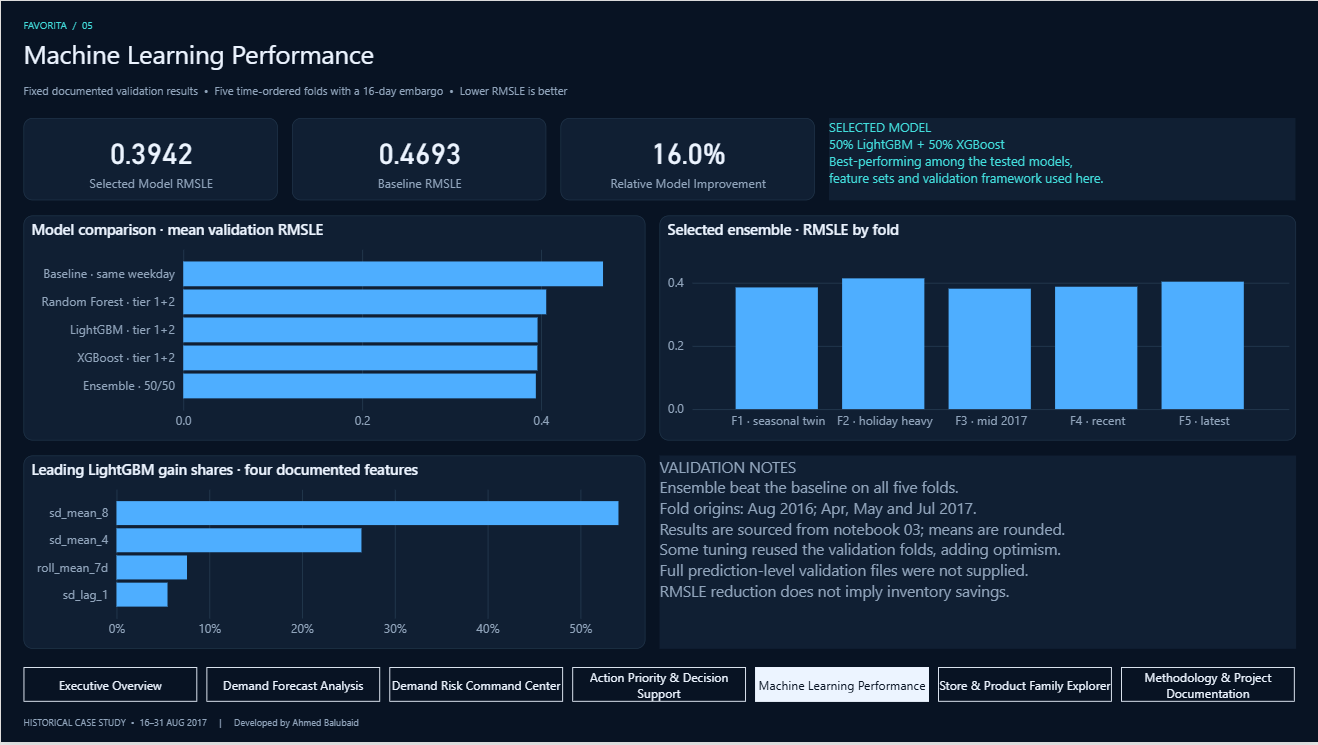

The page's visual inventory and layout, read from the dashboard file:
{"tool":"powerbi","page":{"name":"Machine Learning Performance","canvas":[1440,810],"ordinal":4},"visuals":[{"type":"textbox","box":[24,14,300,24],"z":68},{"type":"textbox","box":[24,40,1370,44],"z":69},{"type":"textbox","box":[24,87,1370,30],"z":70},{"type":"textbox","box":[24,777,1040,22],"z":71},{"type":"pageNavigator","box":[24,729,1392,38],"z":72},{"type":"card","fields":{"Values":["FactForecast.Selected Model RMSLE"]},"box":[24,128,278,90],"z":73},{"type":"card","fields":{"Values":["FactForecast.Baseline RMSLE"]},"box":[318,128,278,90],"z":74},{"type":"card","fields":{"Values":["FactForecast.Relative Model Improvement"]},"box":[612,128,278,90],"z":75},{"type":"textbox","box":[906,128,510,90],"z":76},{"type":"clusteredBarChart","title":"Model comparison · mean validation RMSLE","fields":{"Category":["ModelPerformance.model"],"Y":["FactForecast.Model RMSLE"]},"box":[24,235,680,246],"z":77},{"type":"clusteredColumnChart","title":"Selected ensemble · RMSLE by fold","fields":{"Category":["ValidationFolds.fold"],"Y":["FactForecast.Fold RMSLE"]},"box":[720,235,696,246],"z":78},{"type":"clusteredBarChart","title":"Leading LightGBM gain shares · four documented features","fields":{"Category":["FeatureImportance.feature"],"Y":["FactForecast.Feature Gain Share"]},"box":[24,497,680,211],"z":79},{"type":"textbox","box":[720,497,696,211],"z":80}]}

Visuals, with their boxes in screenshot pixels (x1, y1, x2, y2), scaled from the page's 1440x810 canvas onto the 1318x745 screenshot:
textbox: pyautogui.locateOnScreen(22, 13, 297, 35)
textbox: pyautogui.locateOnScreen(22, 37, 1276, 77)
textbox: pyautogui.locateOnScreen(22, 80, 1276, 108)
textbox: pyautogui.locateOnScreen(22, 715, 974, 735)
pageNavigator: pyautogui.locateOnScreen(22, 670, 1296, 705)
card - FactForecast.Selected Model RMSLE: pyautogui.locateOnScreen(22, 118, 276, 201)
card - FactForecast.Baseline RMSLE: pyautogui.locateOnScreen(291, 118, 546, 201)
card - FactForecast.Relative Model Improvement: pyautogui.locateOnScreen(560, 118, 815, 201)
textbox: pyautogui.locateOnScreen(829, 118, 1296, 201)
"Model comparison · mean validation RMSLE" clusteredBarChart: pyautogui.locateOnScreen(22, 216, 644, 442)
"Selected ensemble · RMSLE by fold" clusteredColumnChart: pyautogui.locateOnScreen(659, 216, 1296, 442)
"Leading LightGBM gain shares · four documented features" clusteredBarChart: pyautogui.locateOnScreen(22, 457, 644, 651)
textbox: pyautogui.locateOnScreen(659, 457, 1296, 651)
